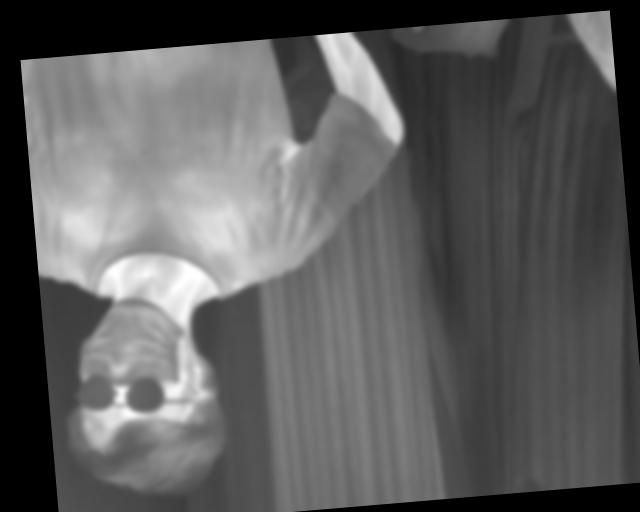face: (62, 290, 231, 502)
